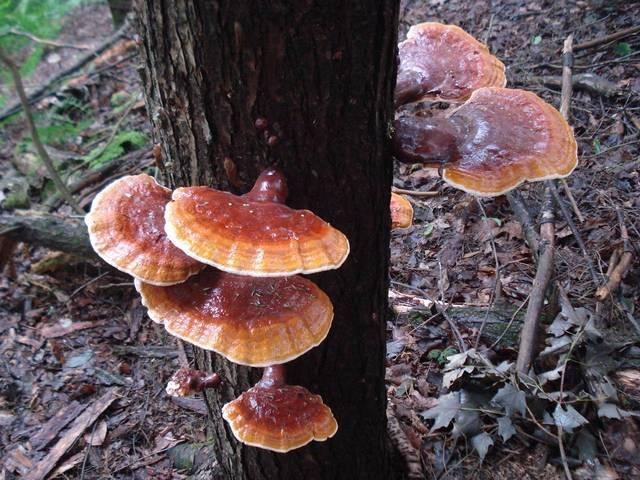Non-edible Mushroom: (84, 165, 351, 453), (374, 17, 582, 236)
